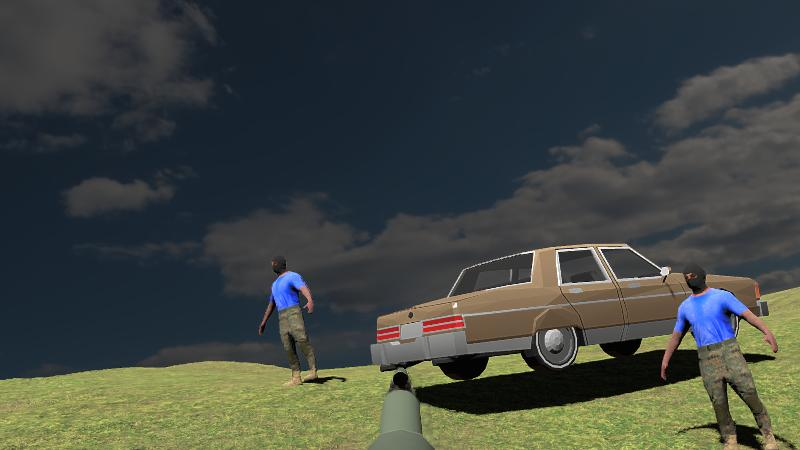Human: (660, 263, 777, 449), (260, 254, 316, 387)
car: (369, 245, 767, 382)
